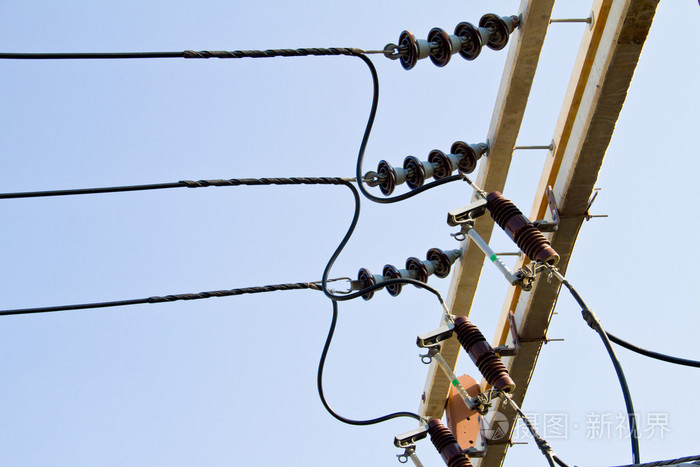insulator: (393, 12, 509, 73), (377, 140, 481, 197), (360, 248, 449, 301)
